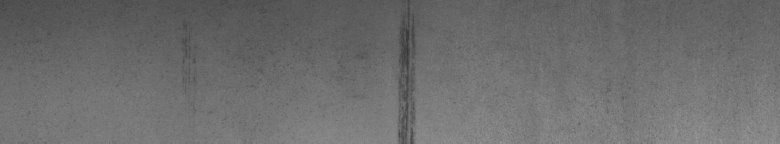hd: (392, 4, 420, 136)
